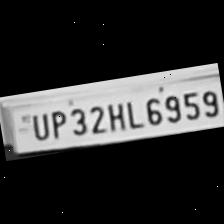2: (84, 100, 107, 136)
3: (65, 103, 89, 138)
5: (178, 86, 201, 121)
6: (140, 92, 164, 128)
9: (160, 90, 184, 124), (198, 86, 221, 119)
H: (104, 98, 128, 133)
L: (122, 97, 142, 129)
P: (46, 106, 68, 140)
U: (26, 110, 50, 141)
